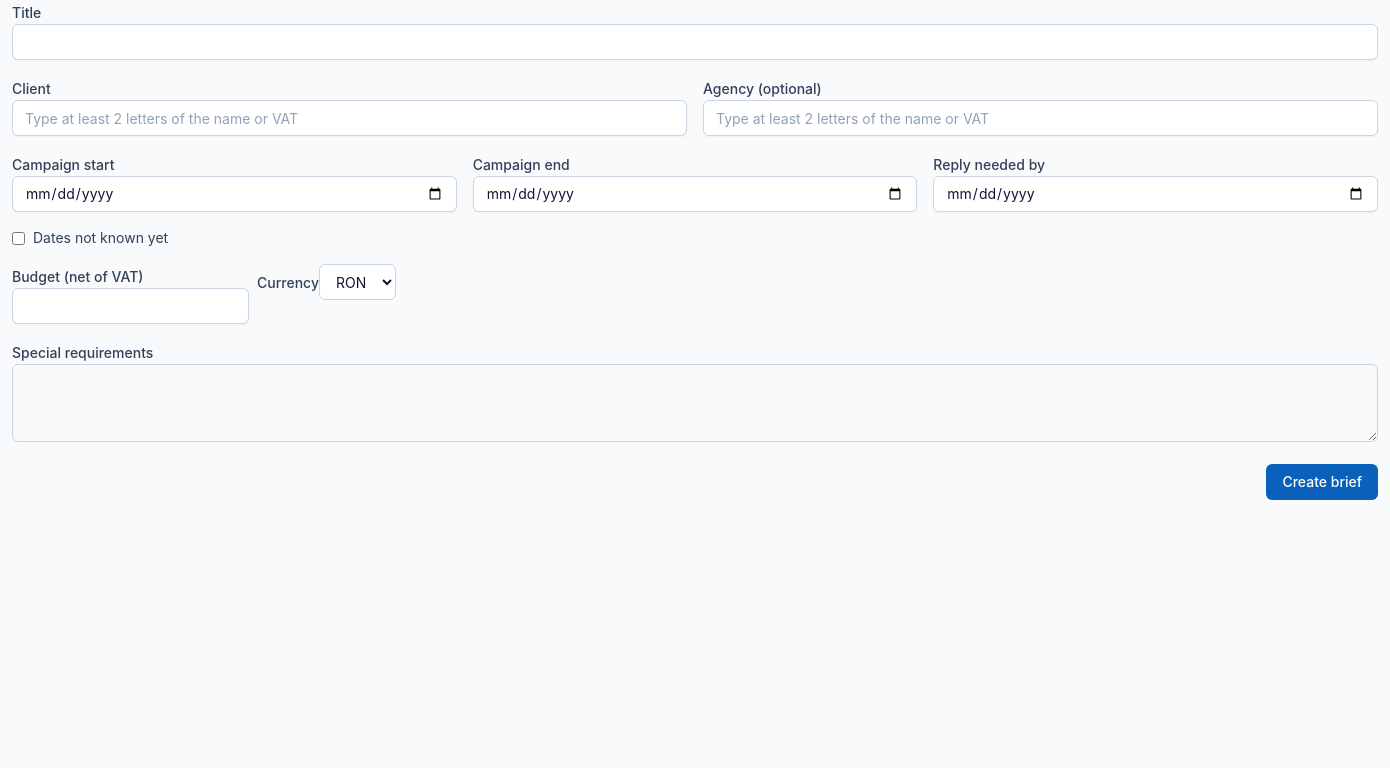
Test case: BriefForm › rejects dates in the wrong order
Type "X" into the field labelled "Title" at (695, 42), box [12,24,1378,60]
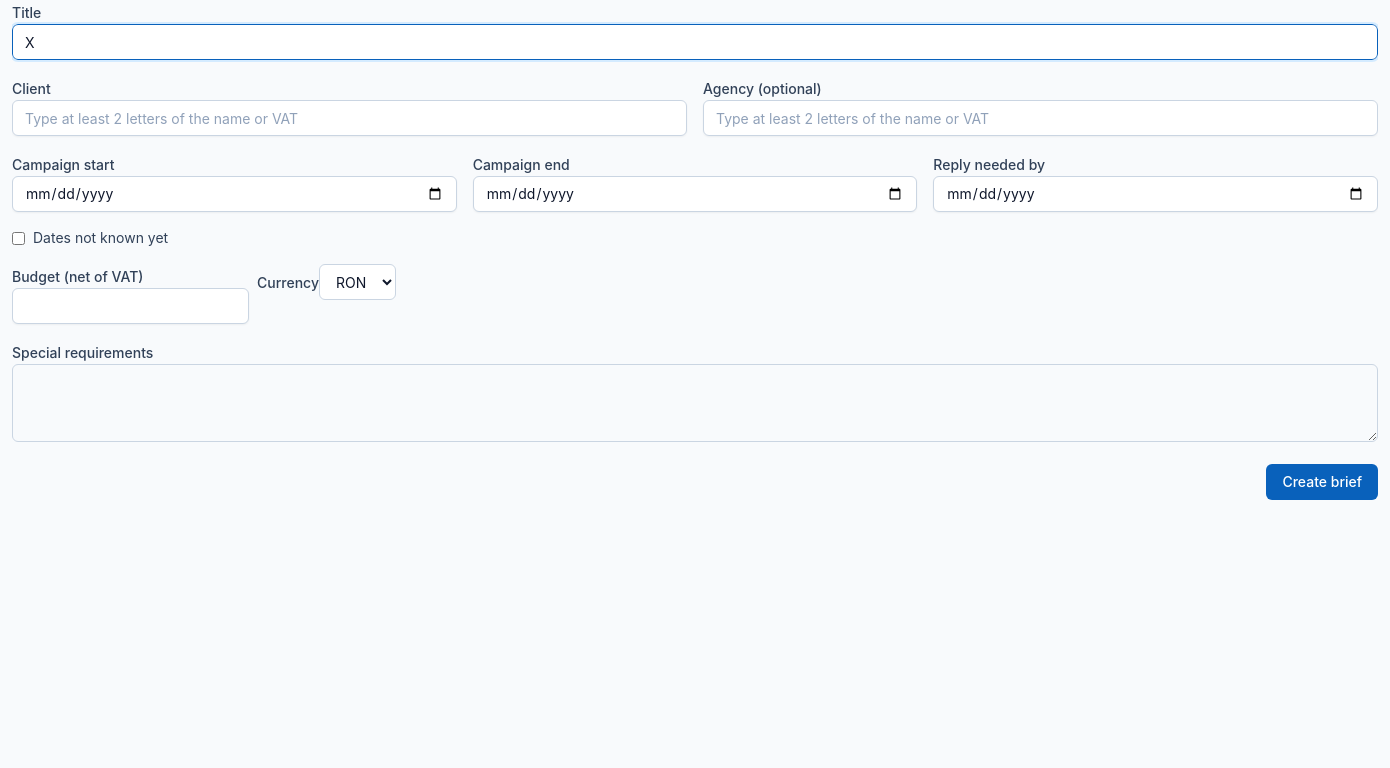
Type "2027-03-10" into the date field labelled "Campaign start" at (234, 194), box [12,176,457,212]
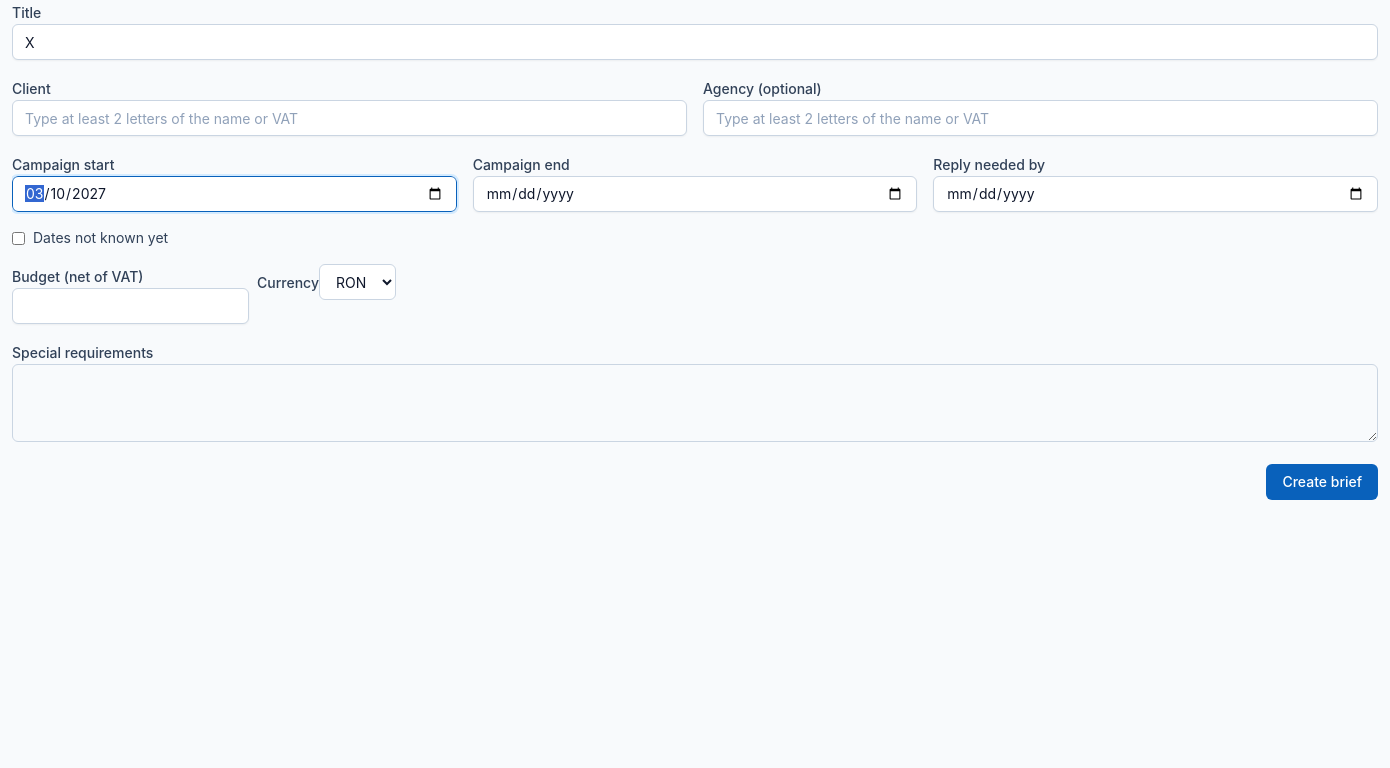
Type "2027-03-01" into the date field labelled "Campaign end" at (695, 194), box [473,176,917,212]
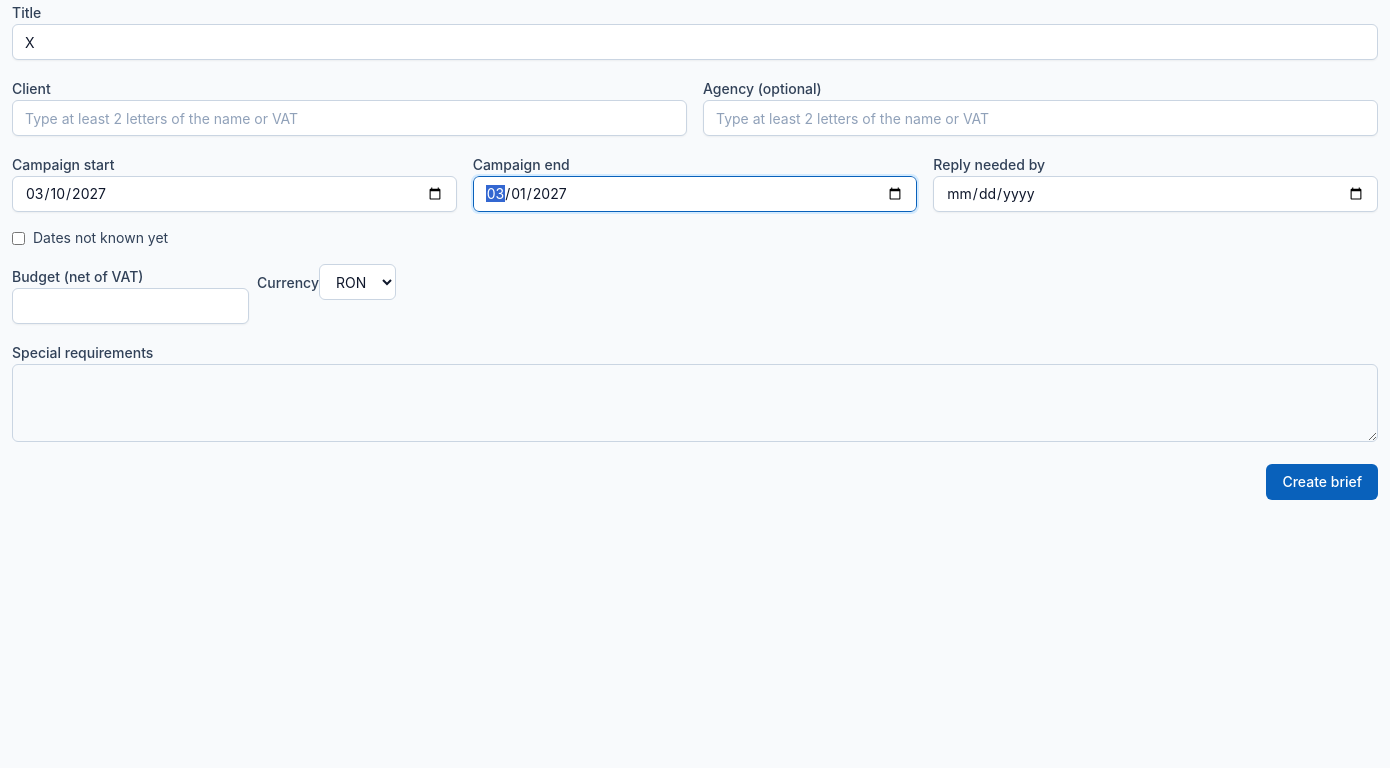
Click the button "Create brief" at (1322, 482), box [1266,464,1378,500]
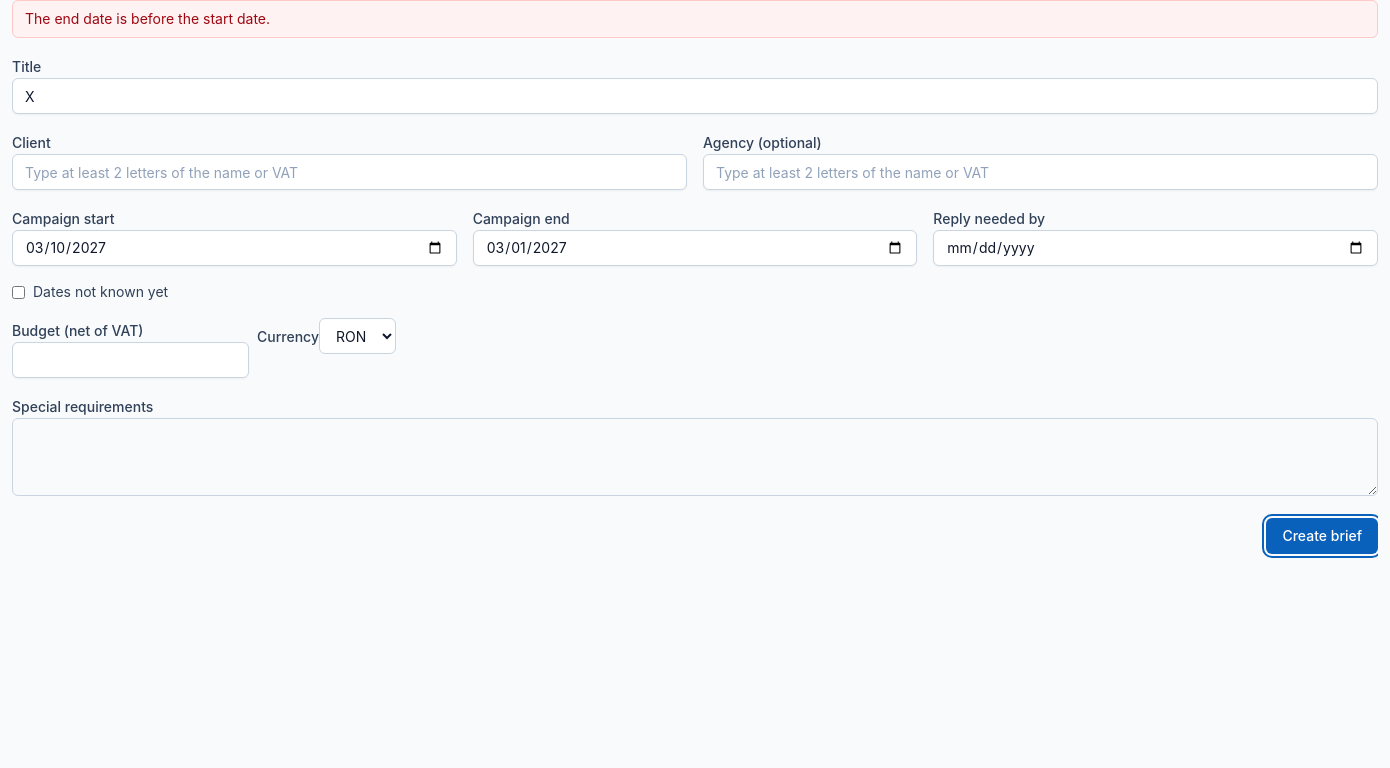
Now the text "The end date is before the start date." is shown, box [12,0,1378,38]
